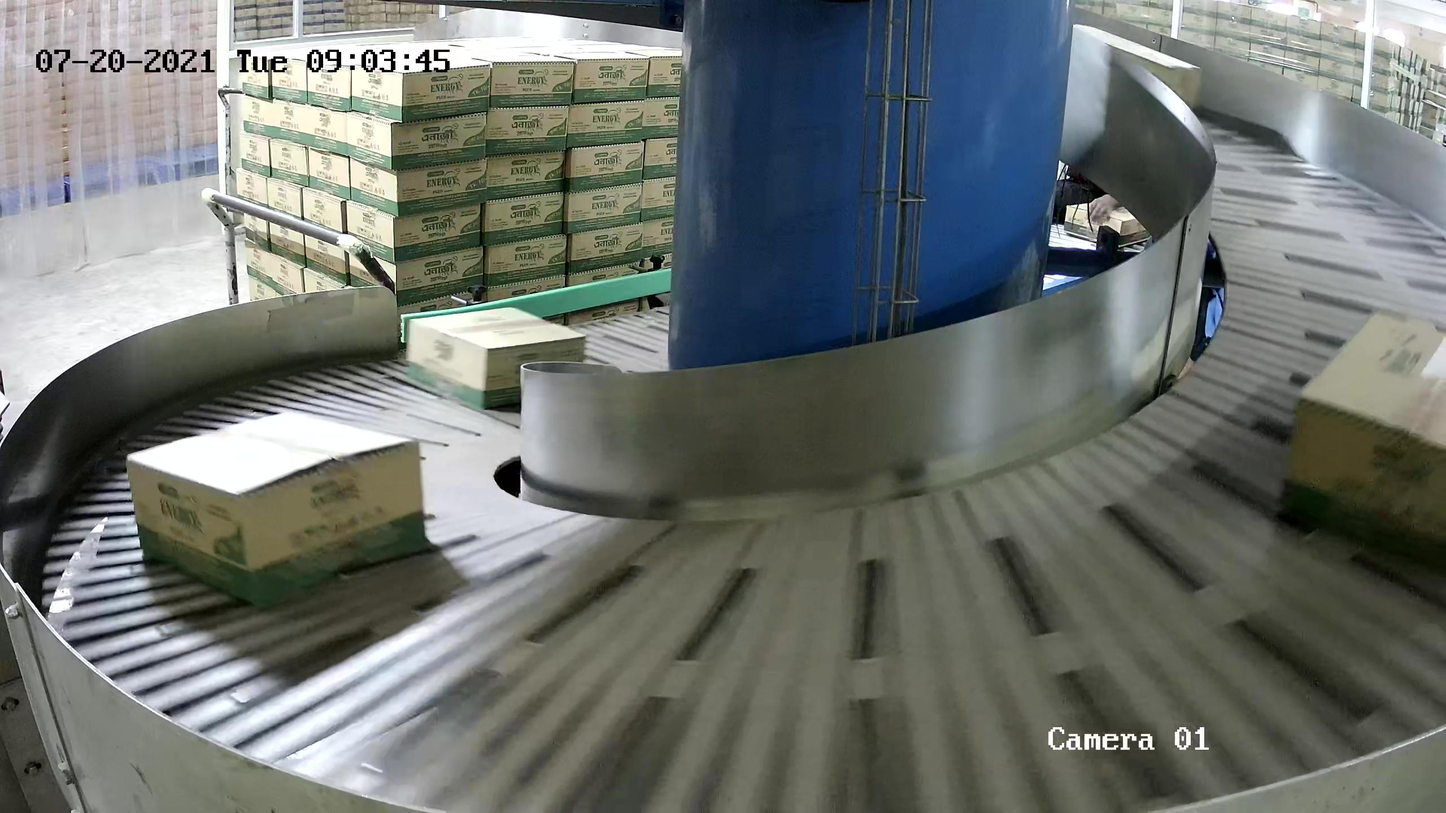Box: (124, 409, 431, 611), (1276, 309, 1446, 569), (406, 306, 587, 411)
